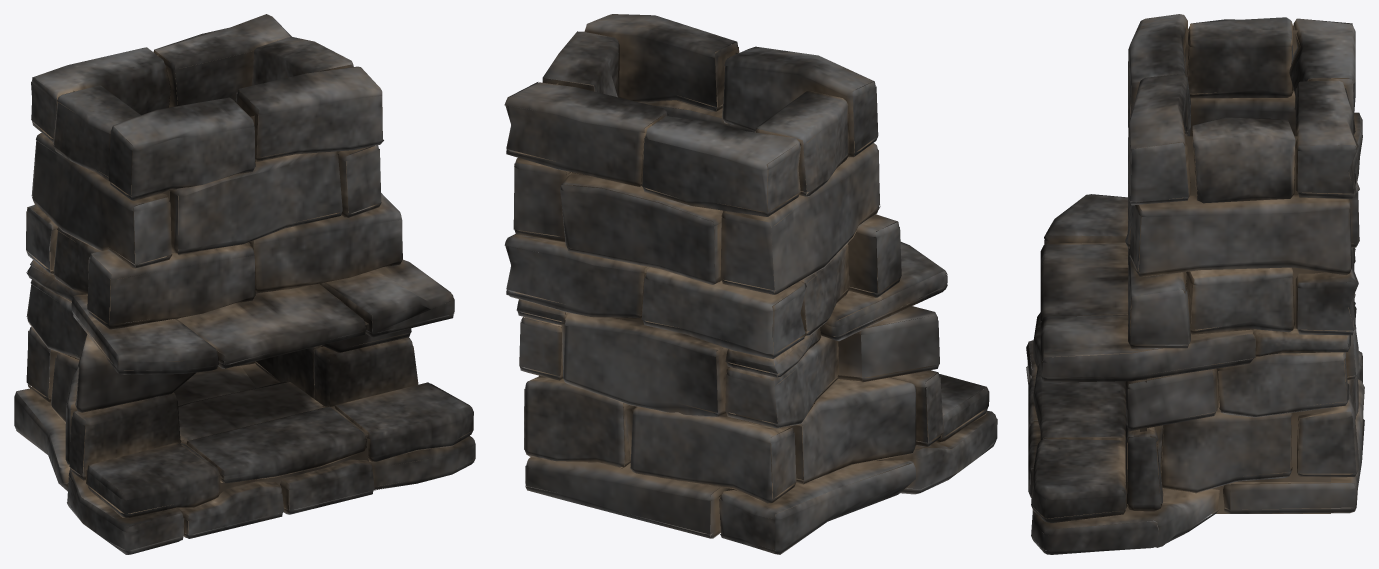
File: stone_forge.glb
3 views of the same model, side by side, from view 1: azimuth 30°, elevation 25°; view 2: azimuth 150°, elevation 25°; view 3: azimuth 270°, elevation 25° (orthographic). The views are drawn at different scales.
Visible parts, largest first — view 1: SM_Furnice3_135_M_Furnice_0; view 2: SM_Furnice3_135_M_Furnice_0; view 3: SM_Furnice3_135_M_Furnice_0.
Part boxes in pixels (x1,y1,x2,y2): SM_Furnice3_135_M_Furnice_0: (14, 14, 475, 554); SM_Furnice3_135_M_Furnice_0: (504, 14, 997, 554); SM_Furnice3_135_M_Furnice_0: (1026, 14, 1364, 554).
Size of the model in its own units: 266 by 263 by 202.
1 material, 1 textured.
